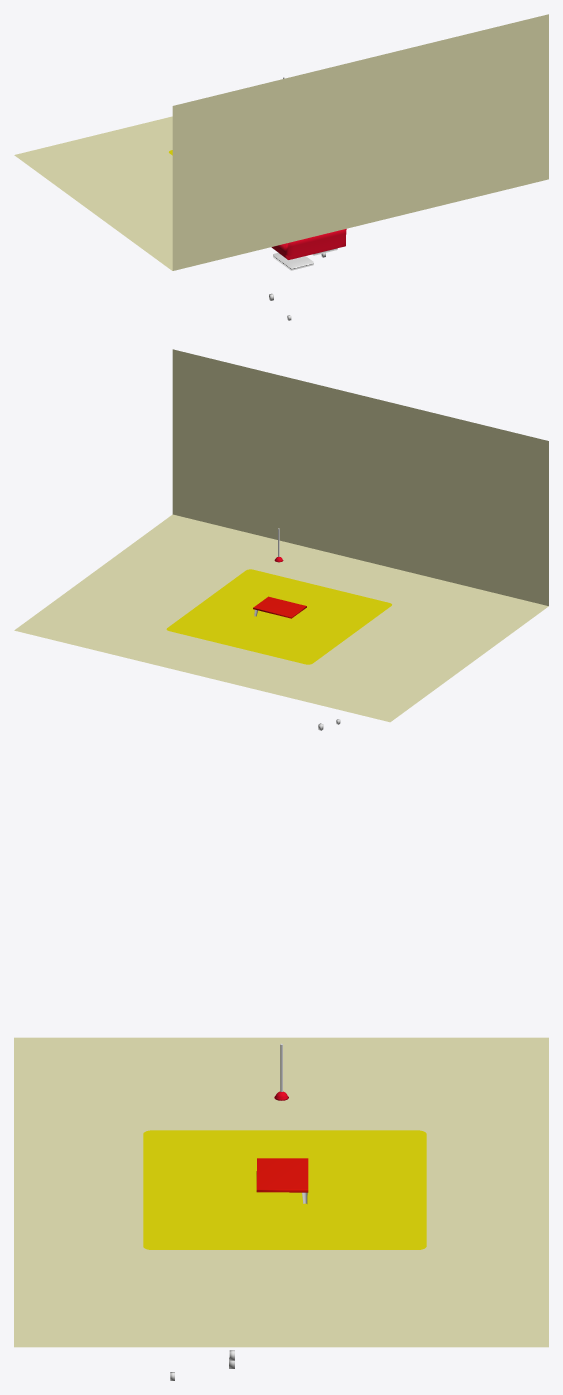
File: meja.glb
3 views of the same model, one above another, from view 1: azimuth 30°, elevation 25°; view 2: azimuth 150°, elevation 25°; view 3: azimuth 270°, elevation 25° (orthographic). The views are drawn at different scales.
Parts seen in each view (by area): view 1: Plane.006, Cube, Kubus.001; view 2: Plane.006, Plane.005, Plane.007; view 3: Plane.006, Plane.005, Plane.007.
Boxes of the visible parts, x1,y1,x2,y2 form: Plane.006: (14,14,548,270); Cube: (271,229,346,259); Kubus.001: (273,252,313,270); Plane.006: (14,349,548,722); Plane.005: (166,569,391,664); Plane.007: (253,596,306,618); Plane.006: (14,1037,548,1347); Plane.005: (143,1130,426,1249); Plane.007: (256,1158,308,1192).
Bounding box in the file's own units: 42.23 × 30.91 × 30.82.
